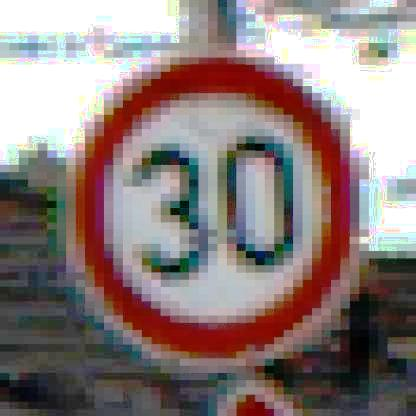Speed Limit -30-: (59, 50, 366, 374)
